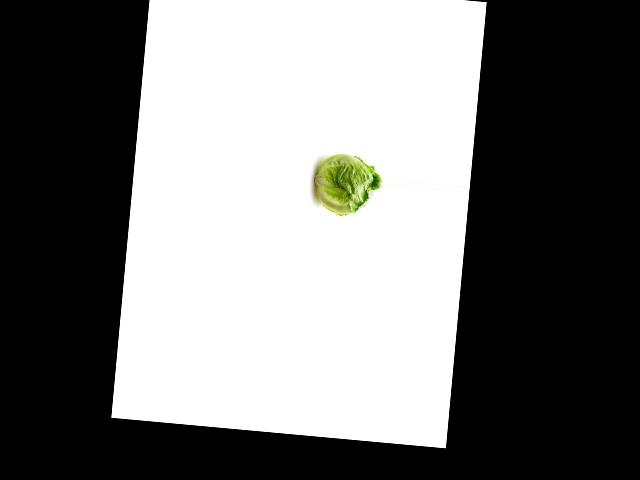lettuce: (308, 148, 384, 224)
